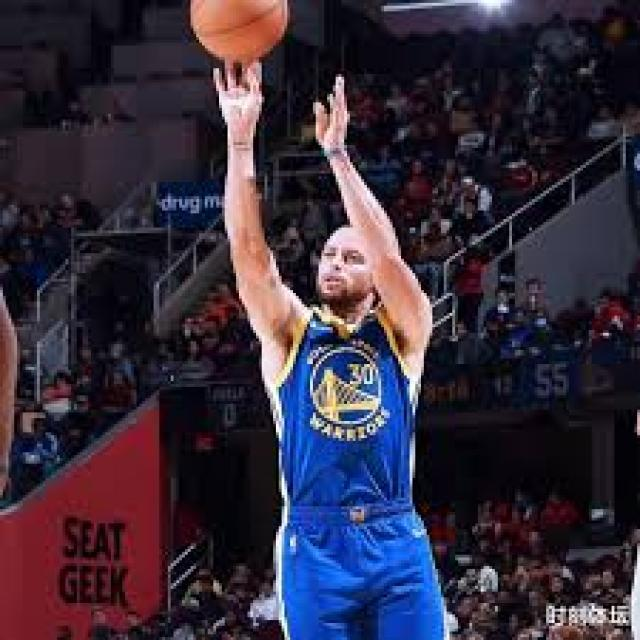rim: (185, 0, 293, 65)
